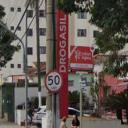speed_limit_50: (44, 69, 63, 93)
